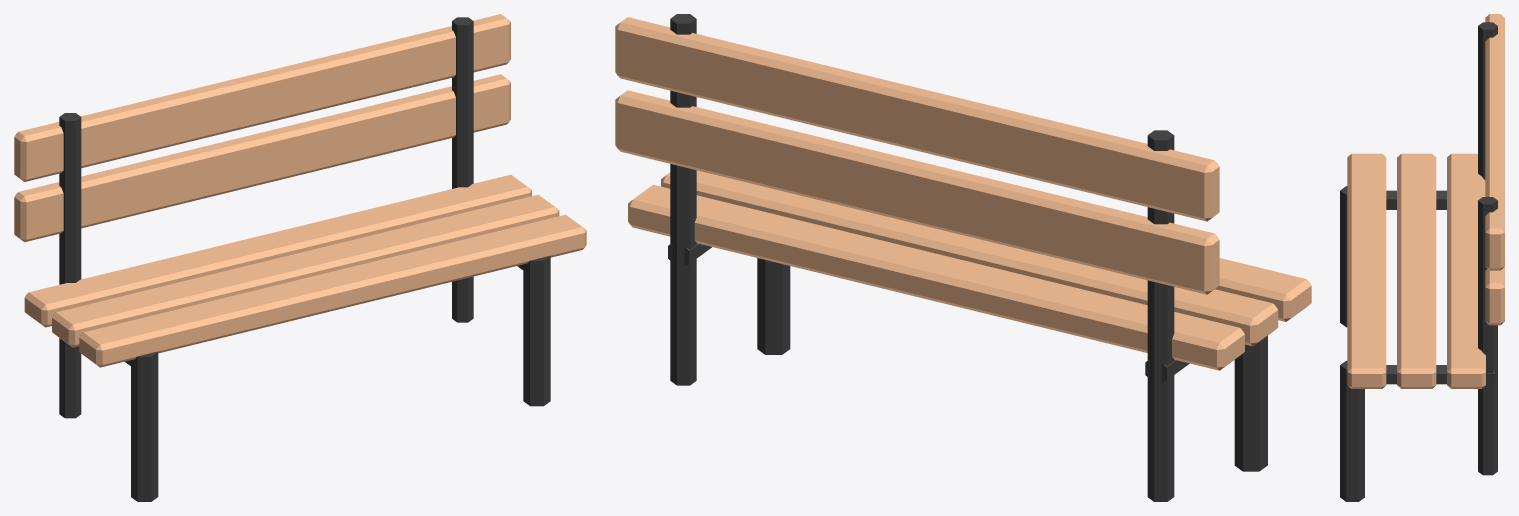
3 renders of one model, left to right at view 1: azimuth 30°, elevation 25°; view 2: azimuth 150°, elevation 25°; view 3: azimuth 270°, elevation 25°, orthographic. The views are drawn at different scales.
Visible parts, largest first — view 1: Back slat.001, Back slat, Seat slat, Seat slat.001, Seat slat.002, Back support, Back support.001, Front leg.001, Front leg; view 2: Back slat, Back slat.001, Seat slat.002, Seat slat.001, Back support, Back support.001, Front leg, Seat slat, Front leg.001; view 3: Seat slat, Seat slat.001, Seat slat.002, Back slat.001, Back support.001, Front leg.001, Back support, Back slat, Front leg, Seat cross support.001, Seat cross support.
Boxes of the visible parts, bbox=[...] form: Back slat.001: bbox=[14, 14, 510, 181]; Back slat: bbox=[14, 74, 510, 242]; Seat slat: bbox=[79, 214, 586, 367]; Seat slat.001: bbox=[52, 194, 559, 347]; Seat slat.002: bbox=[24, 174, 531, 327]; Back support: bbox=[59, 113, 81, 418]; Back support.001: bbox=[452, 17, 473, 322]; Front leg.001: bbox=[523, 256, 550, 406]; Front leg: bbox=[131, 351, 158, 501]; Back slat: bbox=[615, 90, 1219, 294]; Back slat.001: bbox=[615, 17, 1219, 221]; Seat slat.002: bbox=[628, 184, 1244, 370]; Seat slat.001: bbox=[661, 170, 1278, 346]; Back support: bbox=[1147, 130, 1174, 501]; Back support.001: bbox=[670, 14, 696, 385]; Front leg: bbox=[1234, 335, 1267, 471]; Seat slat: bbox=[1215, 258, 1311, 321]; Front leg.001: bbox=[757, 258, 790, 354]; Seat slat: bbox=[1347, 153, 1386, 388]; Seat slat.001: bbox=[1397, 153, 1436, 388]; Seat slat.002: bbox=[1447, 153, 1485, 388]; Back slat.001: bbox=[1485, 14, 1504, 270]; Back support.001: bbox=[1478, 197, 1497, 475]; Front leg.001: bbox=[1340, 360, 1364, 501]; Back support: bbox=[1478, 22, 1497, 179]; Back slat: bbox=[1485, 267, 1504, 325]; Front leg: bbox=[1340, 186, 1347, 327]; Seat cross support.001: bbox=[1386, 365, 1494, 384]; Seat cross support: bbox=[1386, 190, 1446, 209].
Size of the model in its own units: 145 by 92 by 46.25.
